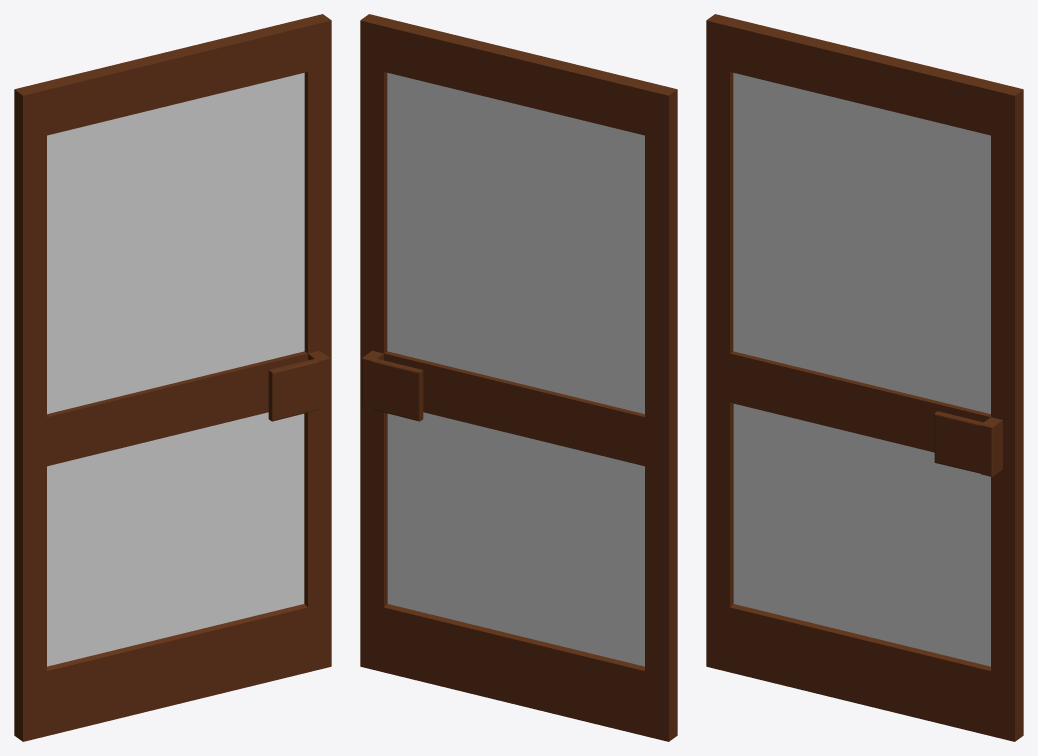
Rendered from Door_Entrance.fbx.
3 views of the same model, side by side, from view 1: azimuth 30°, elevation 25°; view 2: azimuth 150°, elevation 25°; view 3: azimuth 330°, elevation 25° (orthographic).
Visible parts, largest first — view 1: Door_entrance; view 2: Door_entrance; view 3: Door_entrance.
Boxes of the visible parts, left/top/right/bottom form: Door_entrance: left=14, top=14, right=331, bottom=741; Door_entrance: left=360, top=14, right=677, bottom=741; Door_entrance: left=706, top=14, right=1023, bottom=741.
Bounding box in the file's own units: 10000 × 20000 × 1700.
